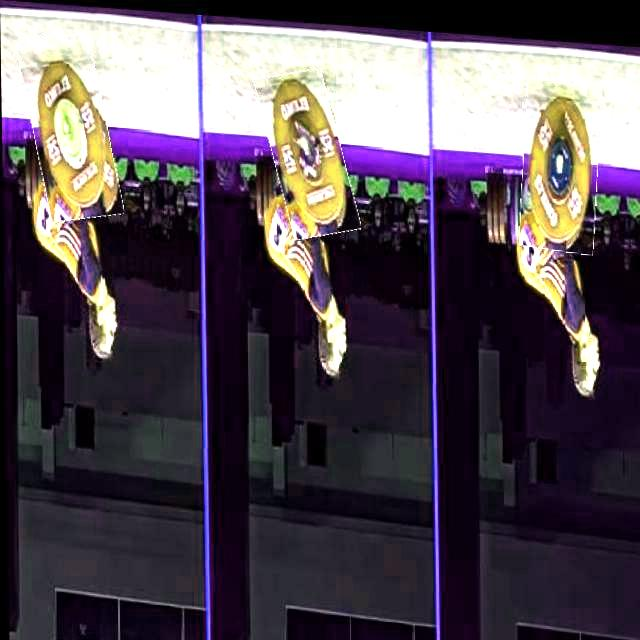barbell: (25, 32, 116, 222), (262, 64, 352, 236), (520, 70, 602, 247)
